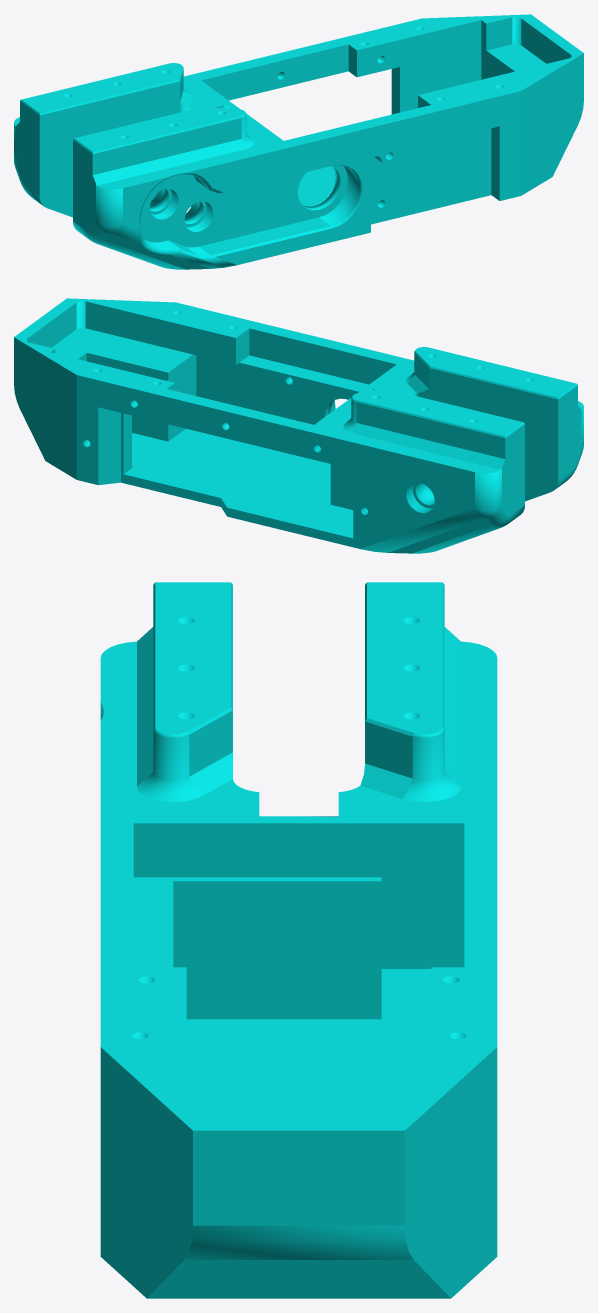
The model's file is chassic.dae.
The picture shows the model from 3 angles, top to bottom: view 1: azimuth 30°, elevation 25°; view 2: azimuth 150°, elevation 25°; view 3: azimuth 270°, elevation 25°; orthographic projection. The views are drawn at different scales.
Visible parts, largest first — view 1: chassis v2; view 2: chassis v2; view 3: chassis v2.
Part boxes in pixels (left/top/right/bottom): chassis v2: left=14, top=14, right=583, bottom=269; chassis v2: left=14, top=298, right=583, bottom=553; chassis v2: left=100, top=582, right=497, bottom=1298.
Size of the model in its own units: 0.175 by 0.06 by 0.045.
